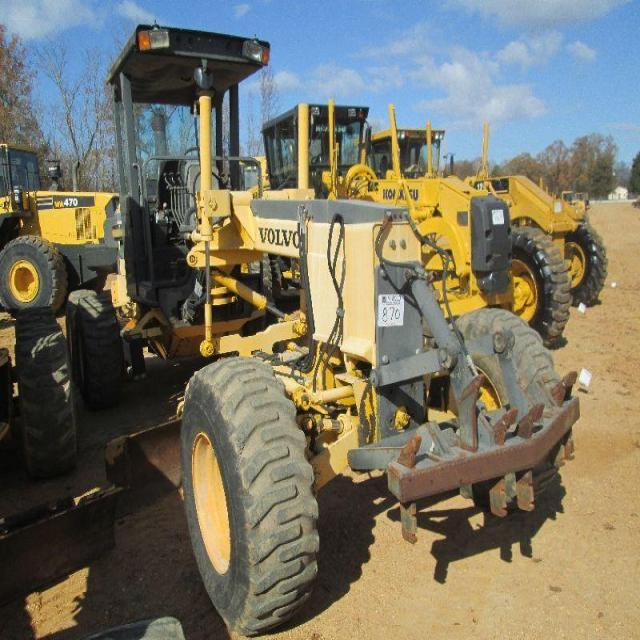buldozerpayloadergrader: (61, 8, 594, 630)
